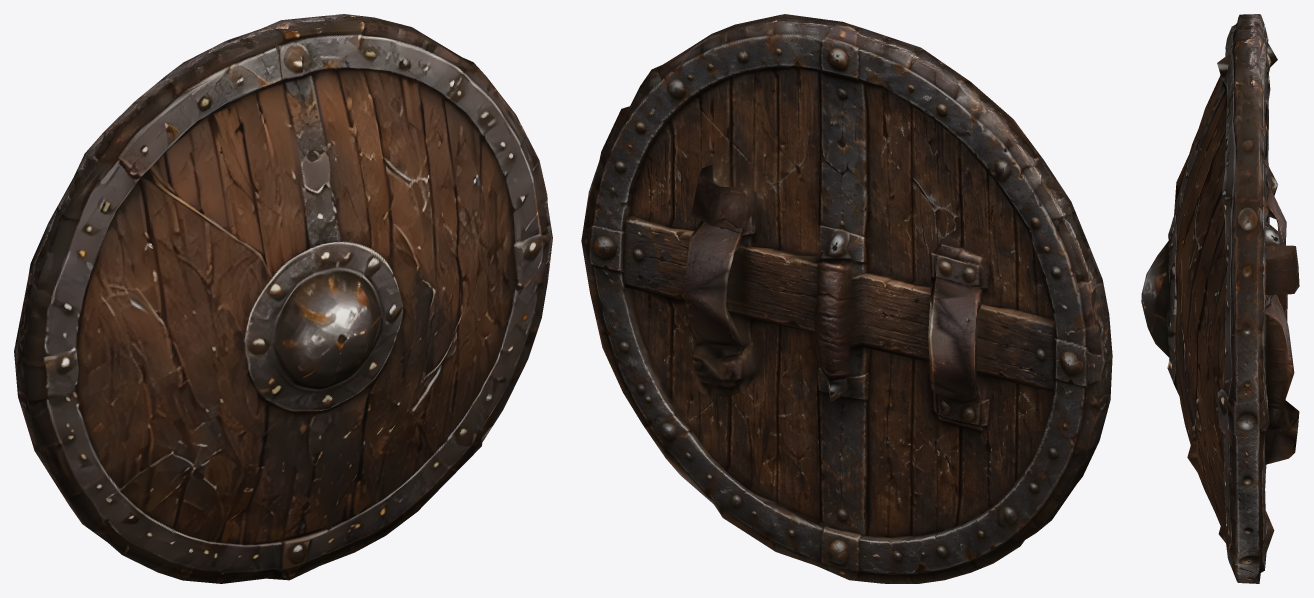
Rendered from escudo1.glb.
3 renders of one model, left to right at view 1: azimuth 30°, elevation 25°; view 2: azimuth 150°, elevation 25°; view 3: azimuth 270°, elevation 25°, orthographic. The views are drawn at different scales.
Parts seen in each view (by area): view 1: tripo_node_8878e1c7-7d67-431e-930b-9db67b8b0896; view 2: tripo_node_8878e1c7-7d67-431e-930b-9db67b8b0896; view 3: tripo_node_8878e1c7-7d67-431e-930b-9db67b8b0896.
Part boxes in pixels (bbox=[...]): tripo_node_8878e1c7-7d67-431e-930b-9db67b8b0896: bbox=[14, 14, 552, 583]; tripo_node_8878e1c7-7d67-431e-930b-9db67b8b0896: bbox=[581, 14, 1112, 583]; tripo_node_8878e1c7-7d67-431e-930b-9db67b8b0896: bbox=[1141, 14, 1299, 583].
Bounding box in the file's own units: 0.996 × 1 × 0.2764.
Materials: 1 (1 with a texture image).
